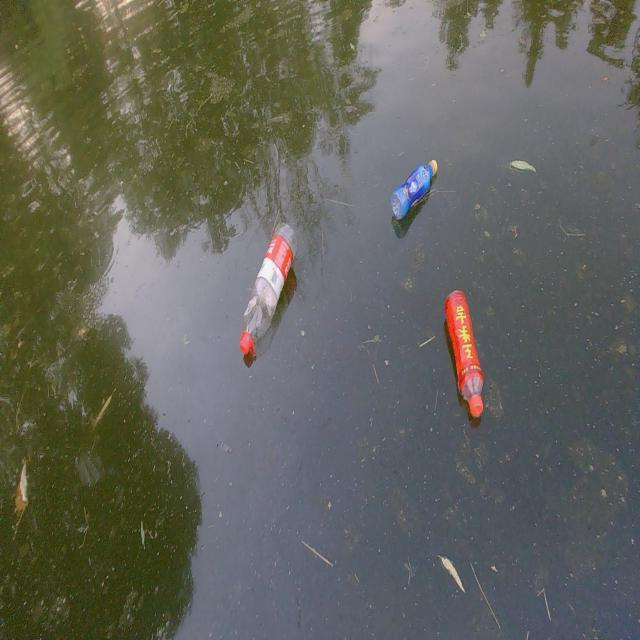bottle: (217, 192, 308, 369), (422, 268, 492, 427), (379, 146, 450, 234)
